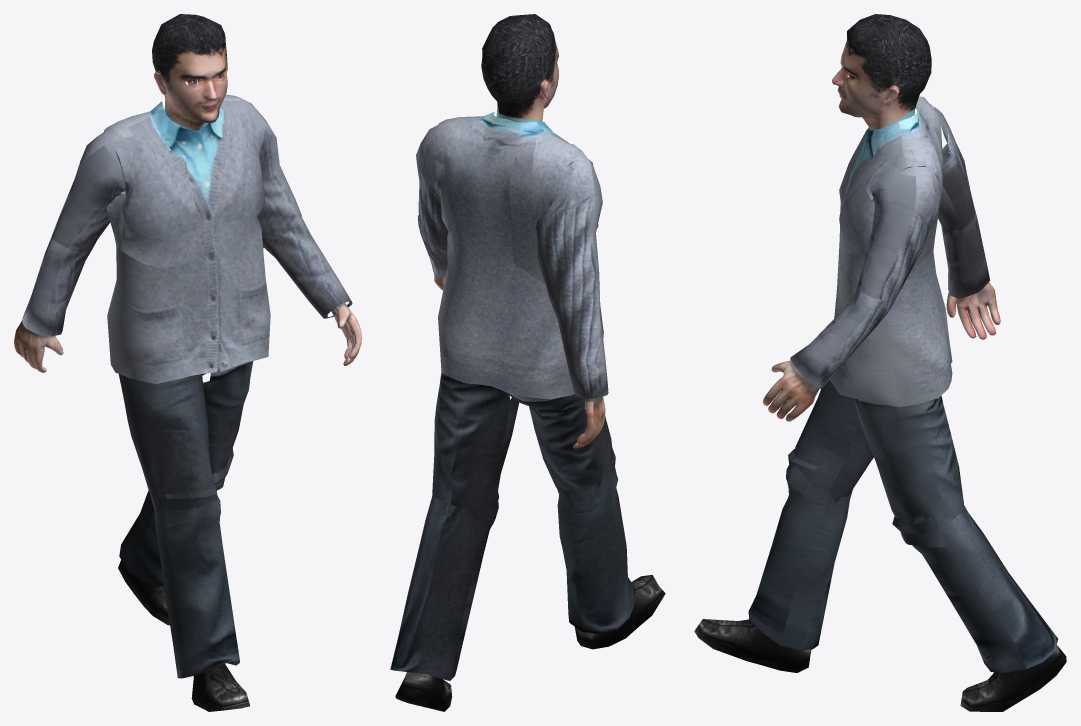
Rendered from car301.glb.
The picture shows the model from 3 angles, left to right: view 1: azimuth 30°, elevation 25°; view 2: azimuth 150°, elevation 25°; view 3: azimuth 270°, elevation 25°; orthographic projection. The views are drawn at different scales.
Visible parts, largest first — view 1: Box01, Cylinder08, Cylinder06, Cylinder02, Cylinder09, Cylinder03, Cylinder07, Cylinder05, Cylinder01, Cylinder04; view 2: Box01, Cylinder07, Cylinder08, Cylinder05, Cylinder02, Cylinder06, Cylinder09, Cylinder01, Cylinder03, Cylinder04; view 3: Box01, Cylinder07, Cylinder08, Cylinder05, Cylinder01, Cylinder03, Cylinder06, Cylinder09, Cylinder02, Cylinder04, Cylinder10.
Part boxes in pixels (bbox=[...]): Box01: bbox=[104, 14, 270, 384]; Cylinder08: bbox=[154, 482, 239, 711]; Cylinder06: bbox=[118, 373, 220, 529]; Cylinder02: bbox=[52, 124, 137, 252]; Cylinder09: bbox=[14, 236, 90, 372]; Cylinder03: bbox=[265, 217, 361, 365]; Cylinder07: bbox=[118, 448, 233, 615]; Cylinder05: bbox=[203, 361, 253, 490]; Cylinder01: bbox=[230, 97, 301, 247]; Cylinder04: bbox=[209, 680, 249, 711]; Box01: bbox=[434, 14, 603, 399]; Cylinder07: bbox=[390, 484, 498, 711]; Cylinder08: bbox=[556, 448, 651, 649]; Cylinder05: bbox=[432, 373, 519, 525]; Cylinder02: bbox=[536, 144, 602, 305]; Cylinder06: bbox=[503, 391, 618, 494]; Cylinder09: bbox=[552, 290, 608, 448]; Cylinder01: bbox=[416, 120, 454, 248]; Cylinder03: bbox=[418, 215, 447, 290]; Cylinder04: bbox=[631, 574, 665, 615]; Box01: bbox=[829, 14, 952, 406]; Cylinder07: bbox=[892, 506, 1066, 711]; Cylinder08: bbox=[733, 449, 852, 672]; Cylinder05: bbox=[853, 395, 964, 547]; Cylinder01: bbox=[856, 150, 942, 309]; Cylinder03: bbox=[762, 291, 889, 421]; Cylinder06: bbox=[786, 380, 873, 502]; Cylinder09: bbox=[940, 207, 1000, 339]; Cylinder02: bbox=[926, 102, 975, 231]; Cylinder04: bbox=[694, 619, 739, 656]; Cylinder10: bbox=[960, 680, 1002, 711].
Size of the model in its own units: 0.7126 by 1.77 by 0.895.
1 material, 1 textured.
